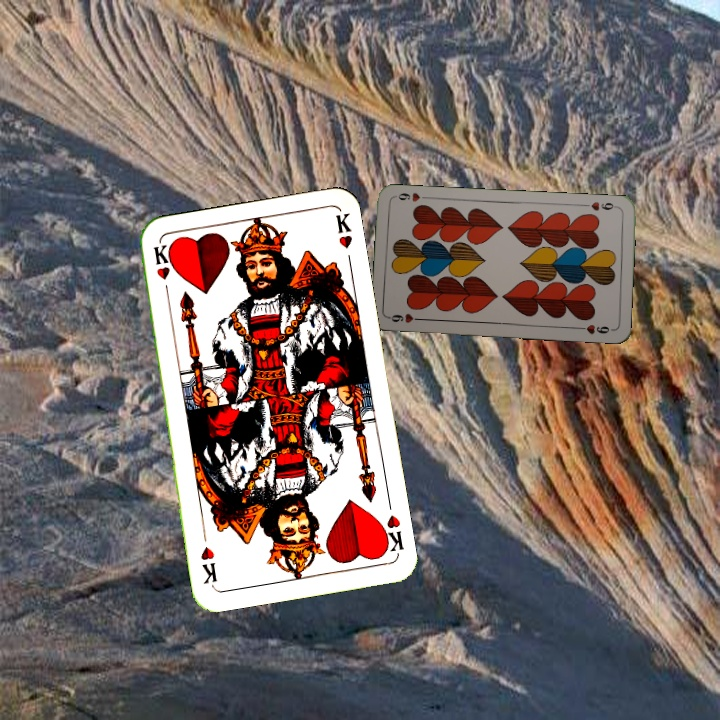H9: (386, 310, 426, 326), (580, 198, 620, 213)
HK: (149, 240, 172, 300), (376, 511, 406, 556)
